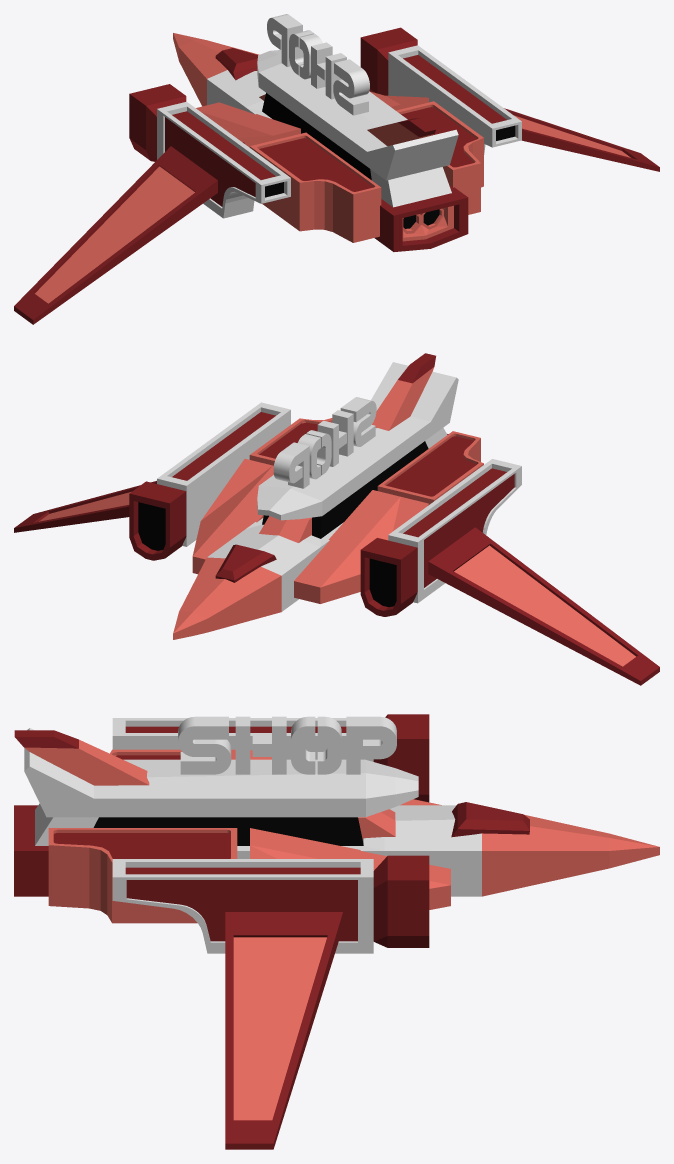
File: shop.fbx
3 renders of one model, top to bottom at view 1: azimuth 30°, elevation 25°; view 2: azimuth 150°, elevation 25°; view 3: azimuth 270°, elevation 25°, orthographic. The views are drawn at different scales.
Parts seen in each view (by area): view 1: Cube.001, Cube, Text; view 2: Cube.001, Cube, Text; view 3: Cube.001, Cube, Text.
Boxes of the visible parts, x1=… form: Cube.001: x1=14, y1=27, x2=659, y2=324; Cube: x1=173, y1=33, x2=468, y2=251; Text: x1=267, y1=14, x2=369, y2=115; Cube.001: x1=14, y1=402, x2=659, y2=685; Cube: x1=173, y1=353, x2=458, y2=639; Text: x1=273, y1=397, x2=376, y2=488; Cube.001: x1=48, y1=714, x2=450, y2=1149; Cube: x1=14, y1=728, x2=659, y2=896; Text: x1=178, y1=716, x2=396, y2=774.
Bounding box in the file's own units: 1081 × 308 × 771.
